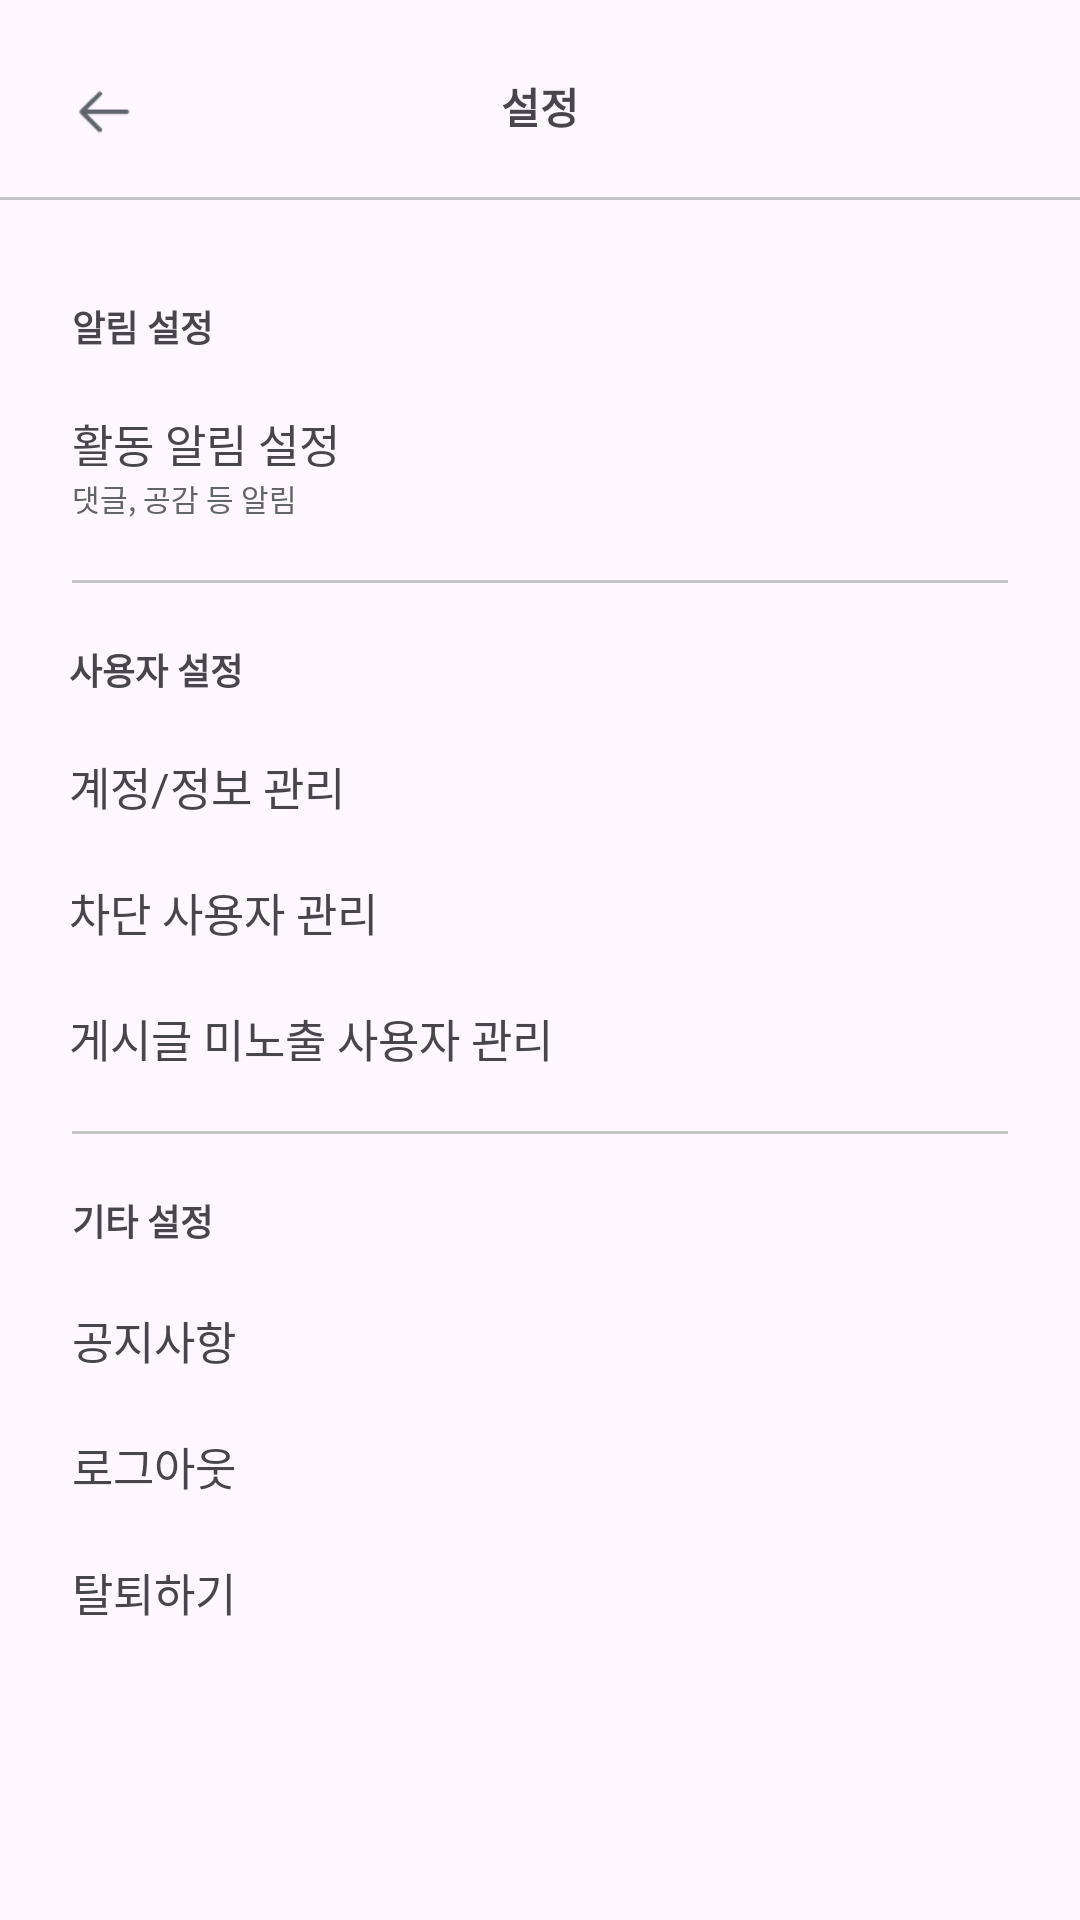

Icons on this 1080px x 1920px Android screen, each with the point to tap as [x,y]:
goback: [104,112]
